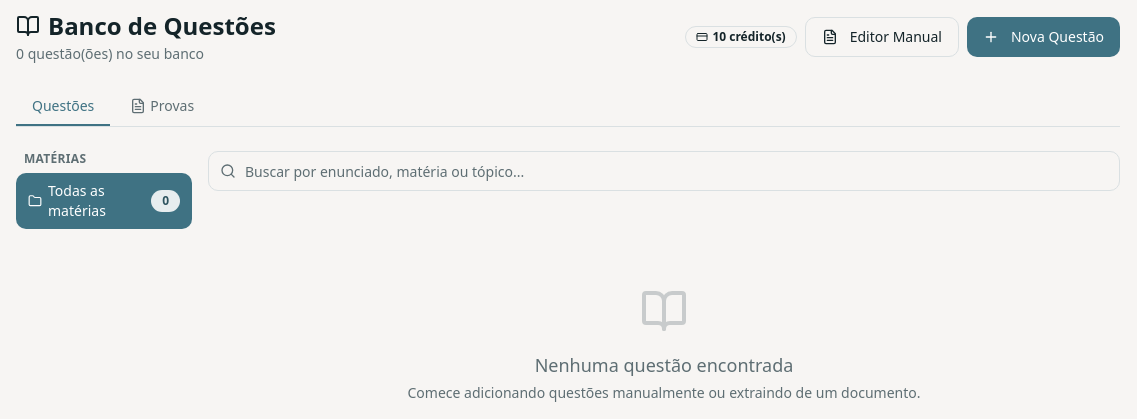
Test case: QuestionBankPage › filter empty state shows distinct copy when search is set
In the field with placeholder "Buscar por enunciado, matéria ou tópico...": point(664, 171) [208, 151, 1120, 191], type "xyz"
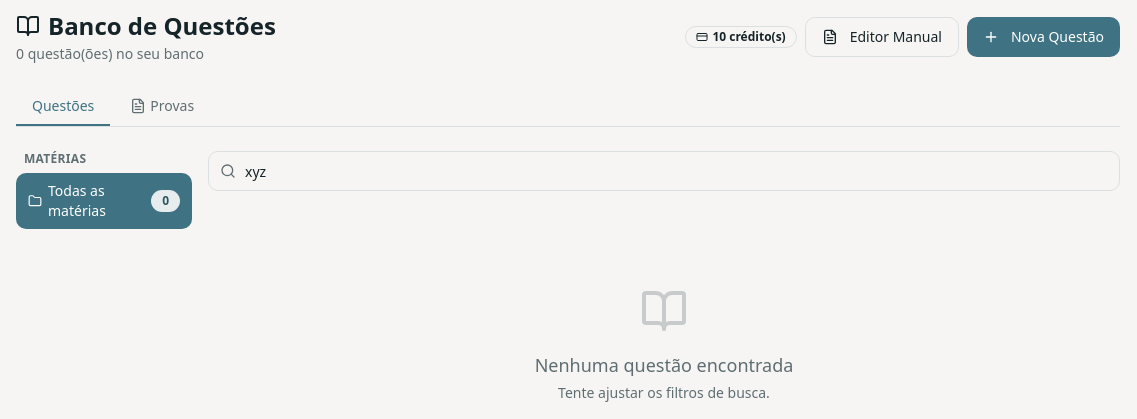
Expected: the text "Tente ajustar os filtros de busca." is shown, [558, 383, 770, 402]
